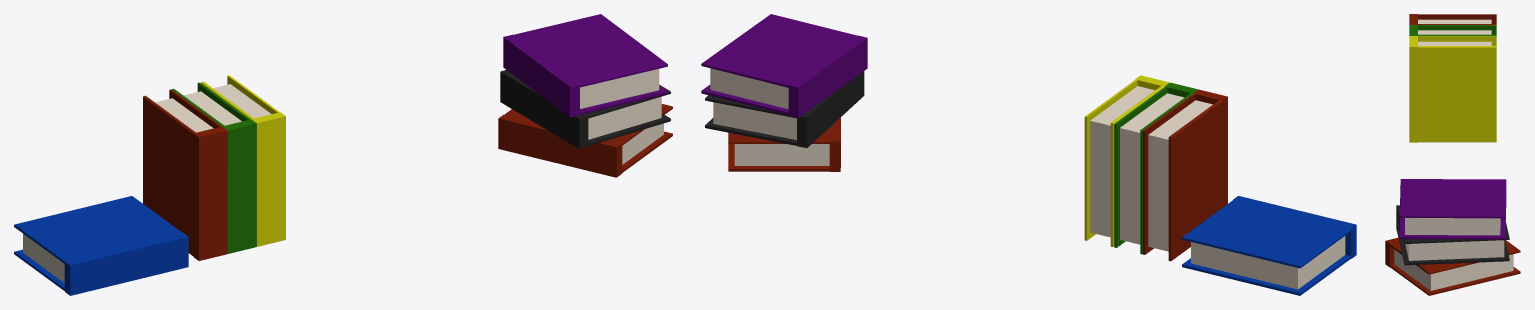
The model's file is sm_Books.fbx.
3 renders of one model, left to right at view 1: azimuth 30°, elevation 25°; view 2: azimuth 150°, elevation 25°; view 3: azimuth 270°, elevation 25°, orthographic. The views are drawn at different scales.
Parts seen in each view (by area): view 1: pCube15; view 2: pCube15; view 3: pCube15.
Boxes of the visible parts, left/top/right/bottom form: pCube15: left=14, top=14, right=672, bottom=295; pCube15: left=701, top=14, right=1356, bottom=295; pCube15: left=1385, top=14, right=1520, bottom=295.
Size of the model in its own units: 541 by 107 by 133.
